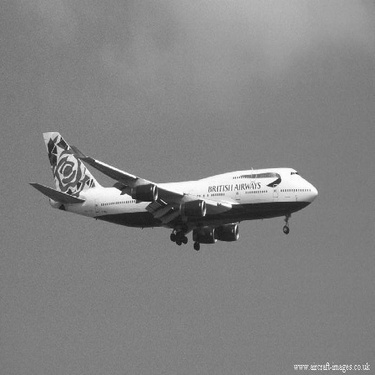airplane: (10, 117, 325, 260)
